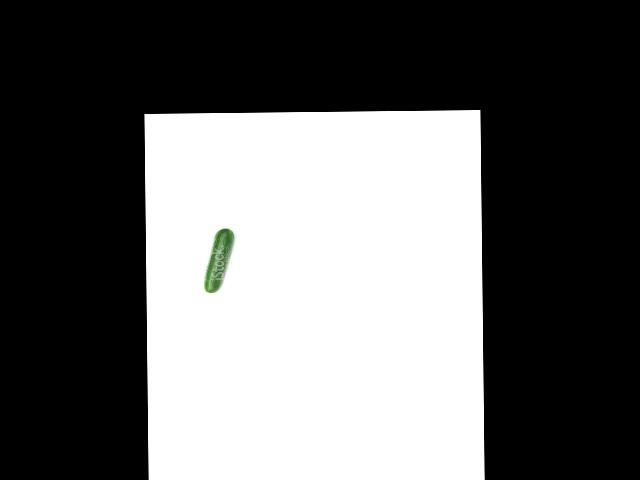cucumber: (203, 227, 234, 293)
